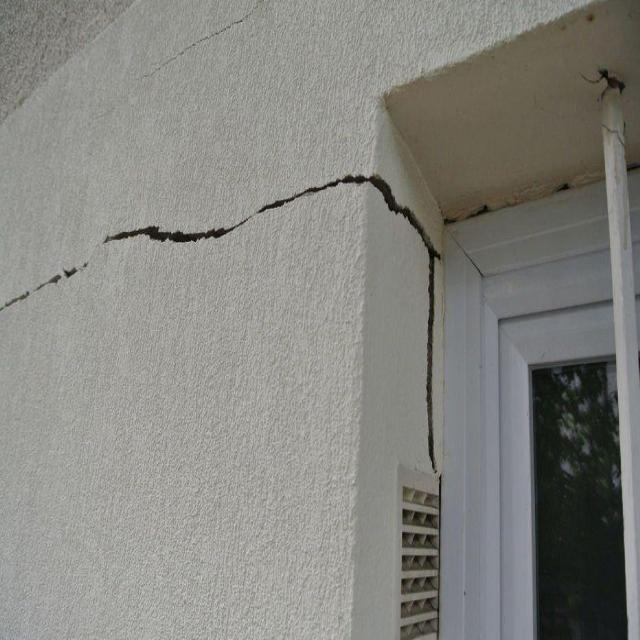crack: (104, 171, 444, 477), (7, 264, 89, 306)
